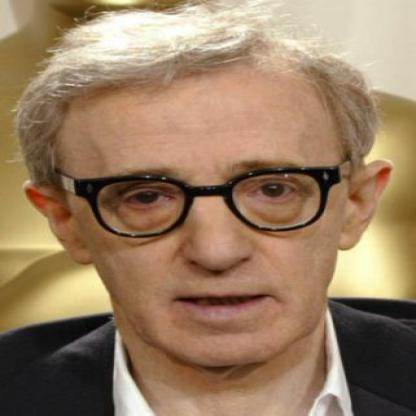face: (70, 26, 351, 373)
